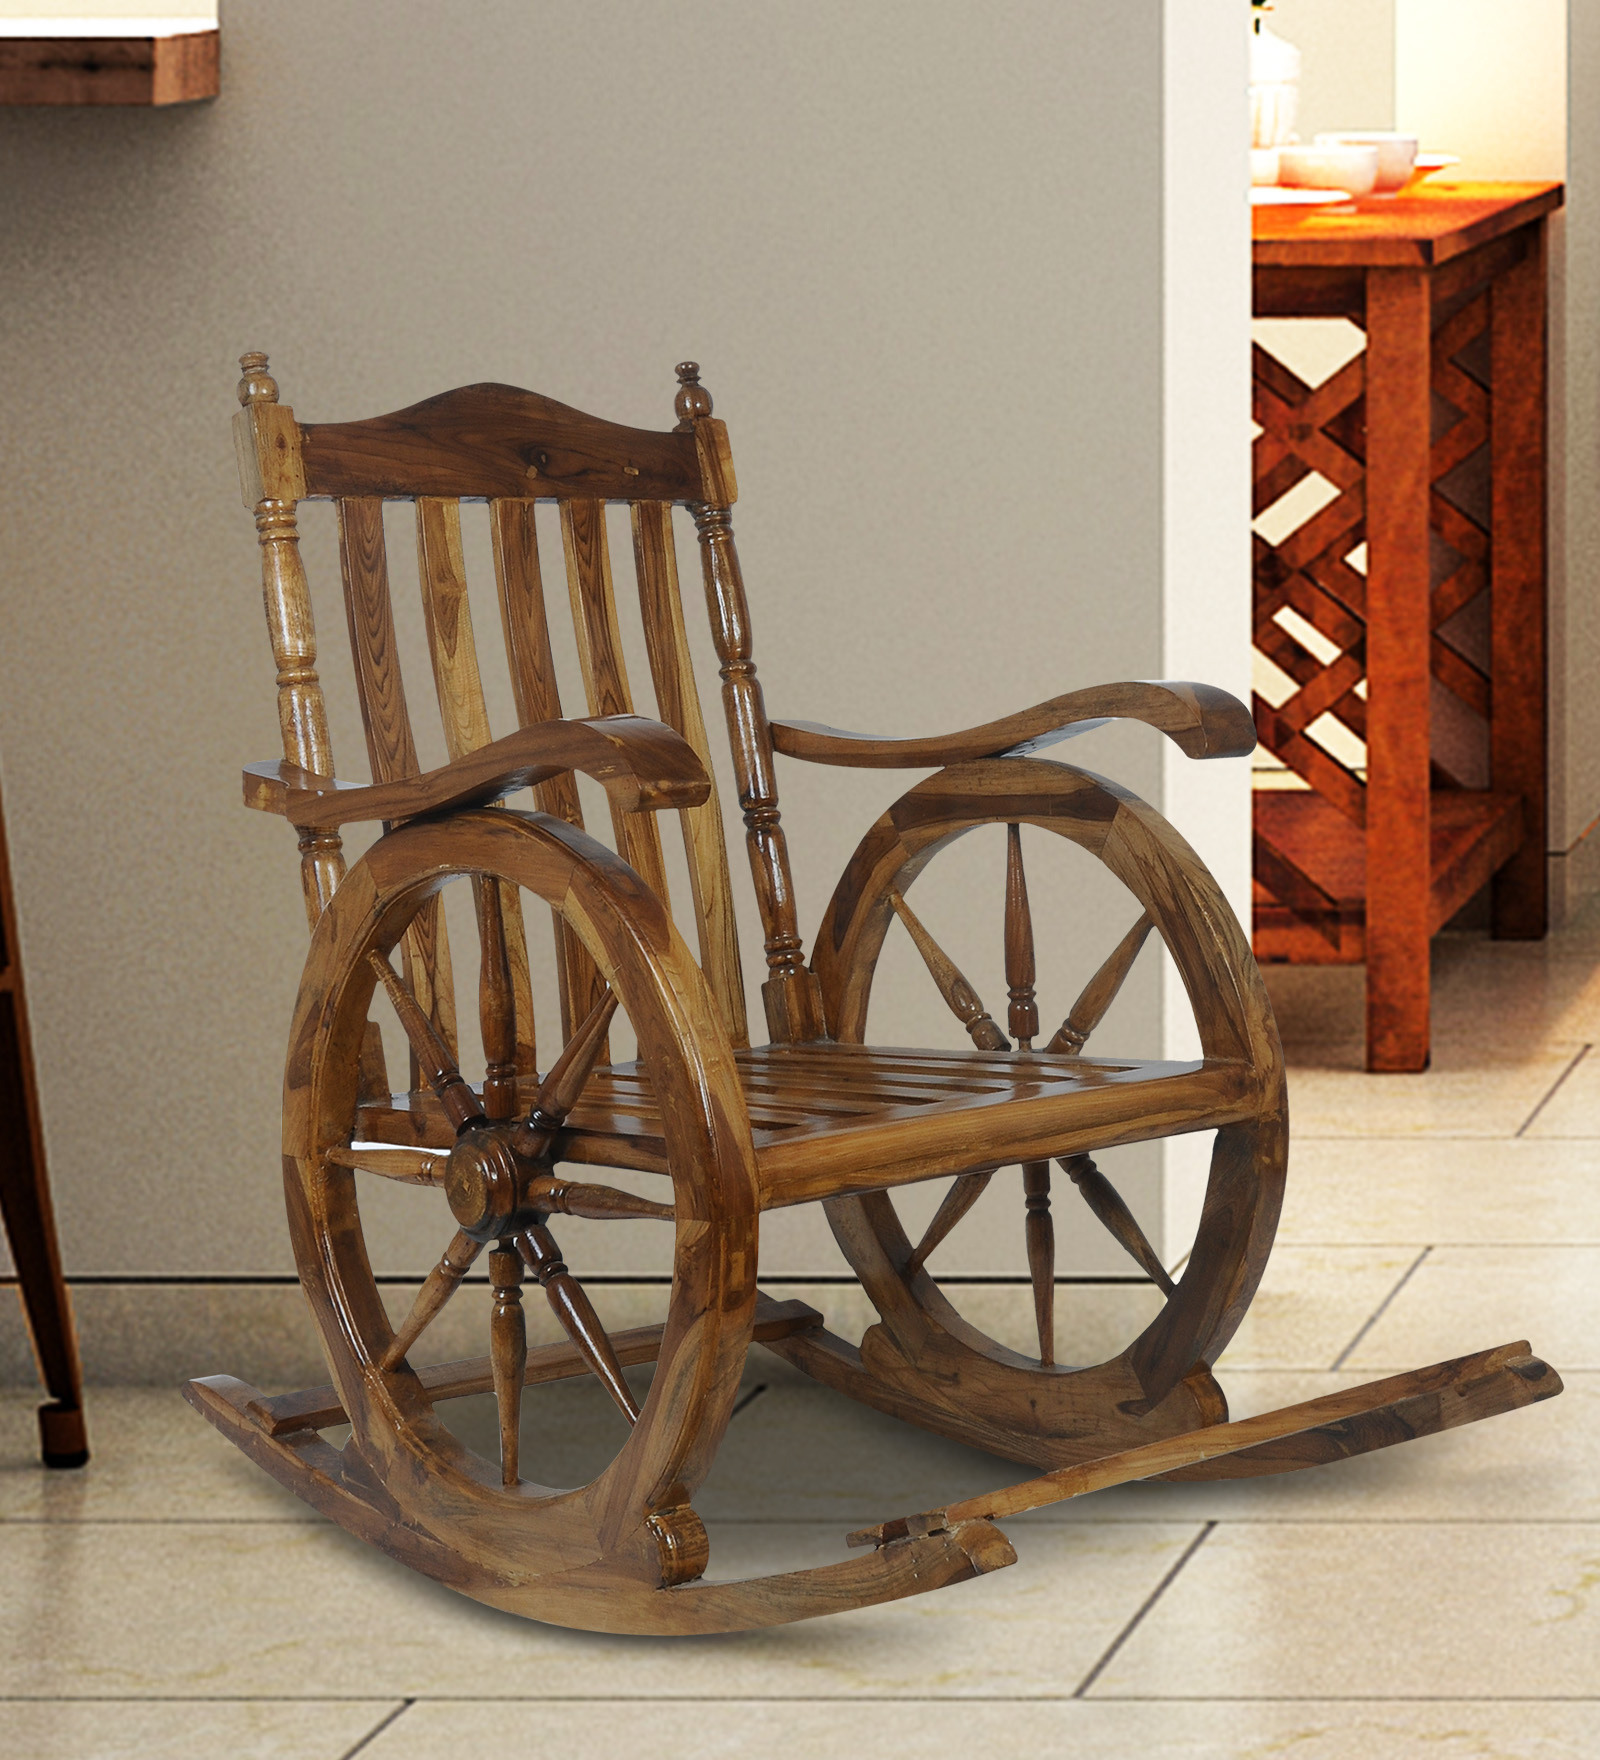Chariot Teak Wood Rocking Chair in Natural Finish by Furniease: (149, 317, 1579, 1653)
